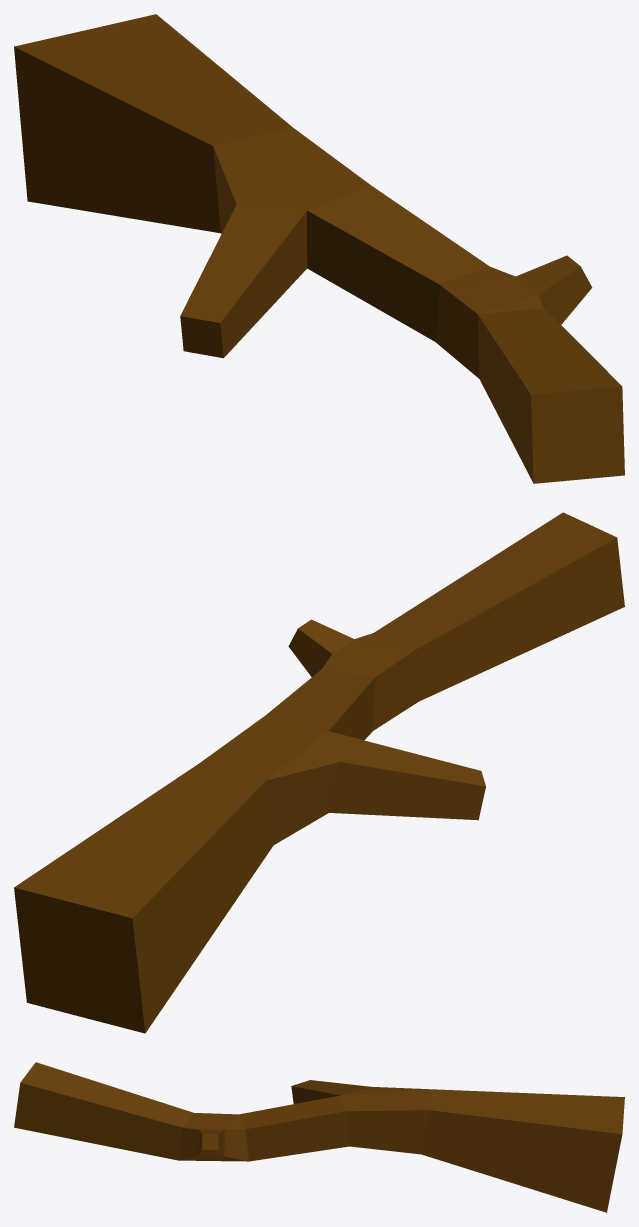
Rendered from Sc_troncoLargo_1.fbx.
The picture shows the model from 3 angles, top to bottom: view 1: azimuth 30°, elevation 25°; view 2: azimuth 150°, elevation 25°; view 3: azimuth 270°, elevation 25°; orthographic projection. The views are drawn at different scales.
Visible parts, largest first — view 1: TroncoCortadoAcostado; view 2: TroncoCortadoAcostado; view 3: TroncoCortadoAcostado.
Part boxes in pixels (x1=…): TroncoCortadoAcostado: x1=14, y1=14, x2=624, y2=483; TroncoCortadoAcostado: x1=14, y1=512, x2=624, y2=1033; TroncoCortadoAcostado: x1=14, y1=1062, x2=624, y2=1212.
Bounding box in the file's own units: 148 × 88.7 × 457.
